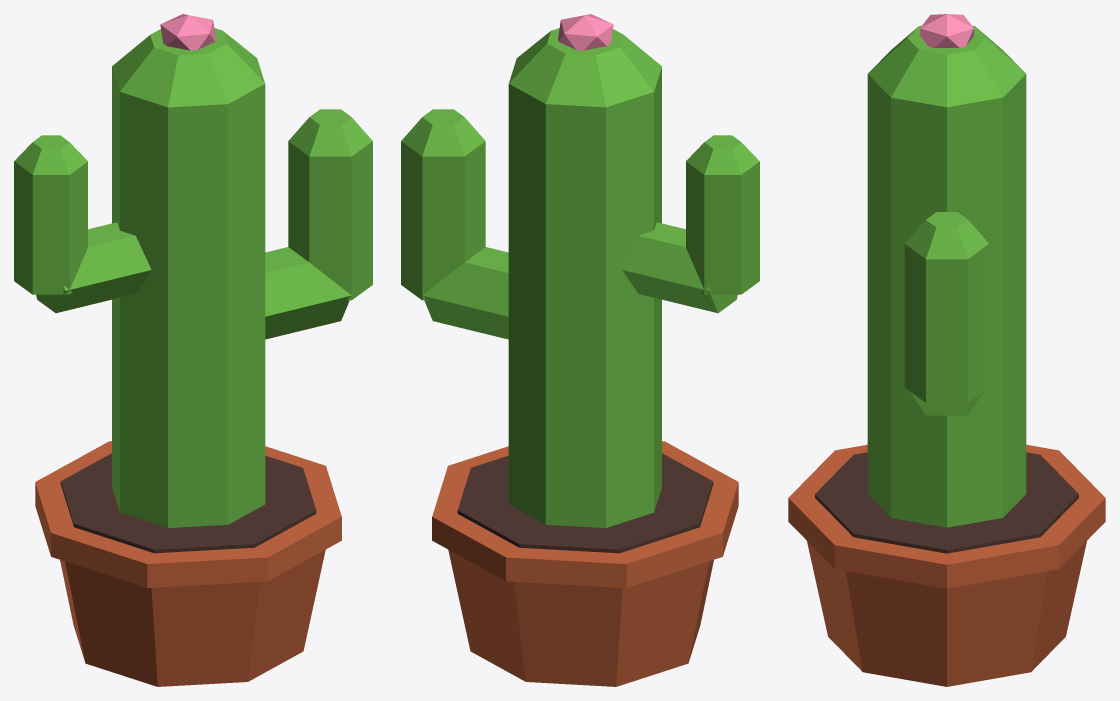
File: Cactus.fbx
The picture shows the model from 3 angles, left to right: view 1: azimuth 30°, elevation 25°; view 2: azimuth 150°, elevation 25°; view 3: azimuth 270°, elevation 25°; orthographic projection.
Visible parts, largest first — view 1: Cactus; view 2: Cactus; view 3: Cactus.
Part boxes in pixels (x1=…): Cactus: x1=14, y1=14, x2=372, y2=686; Cactus: x1=401, y1=14, x2=759, y2=686; Cactus: x1=788, y1=14, x2=1105, y2=686.
Bounding box in the file's own units: 4.44 × 7.8 × 3.6.
1 material, 1 textured.
